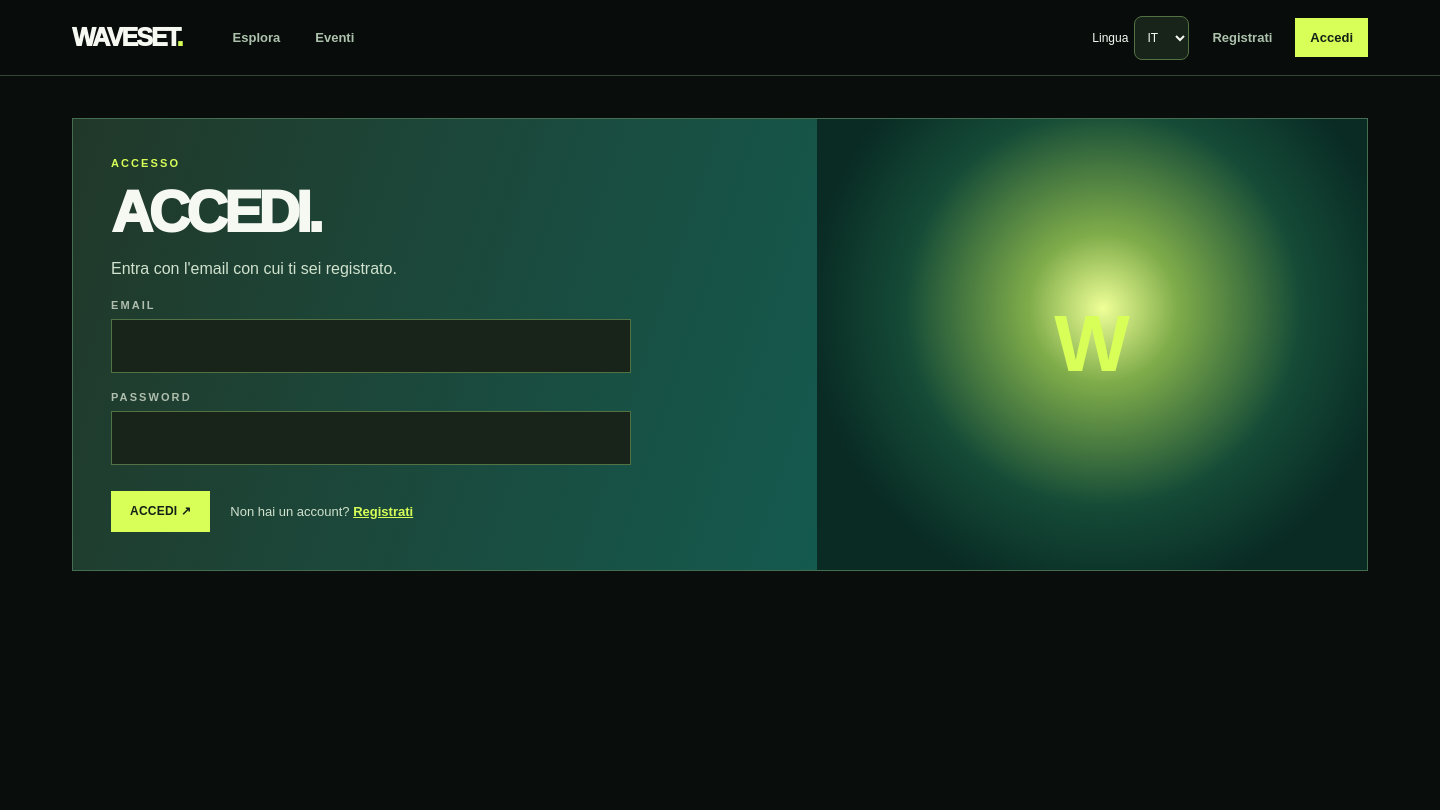
schermata di accesso › campi vuoti: errori per campo e nessuna chiamata di accesso
Expected: the heading "Accedi." is shown, [111, 180, 320, 244]
Step 1. Click the button "Accedi ↗" → (161, 512), box [111, 491, 210, 532]
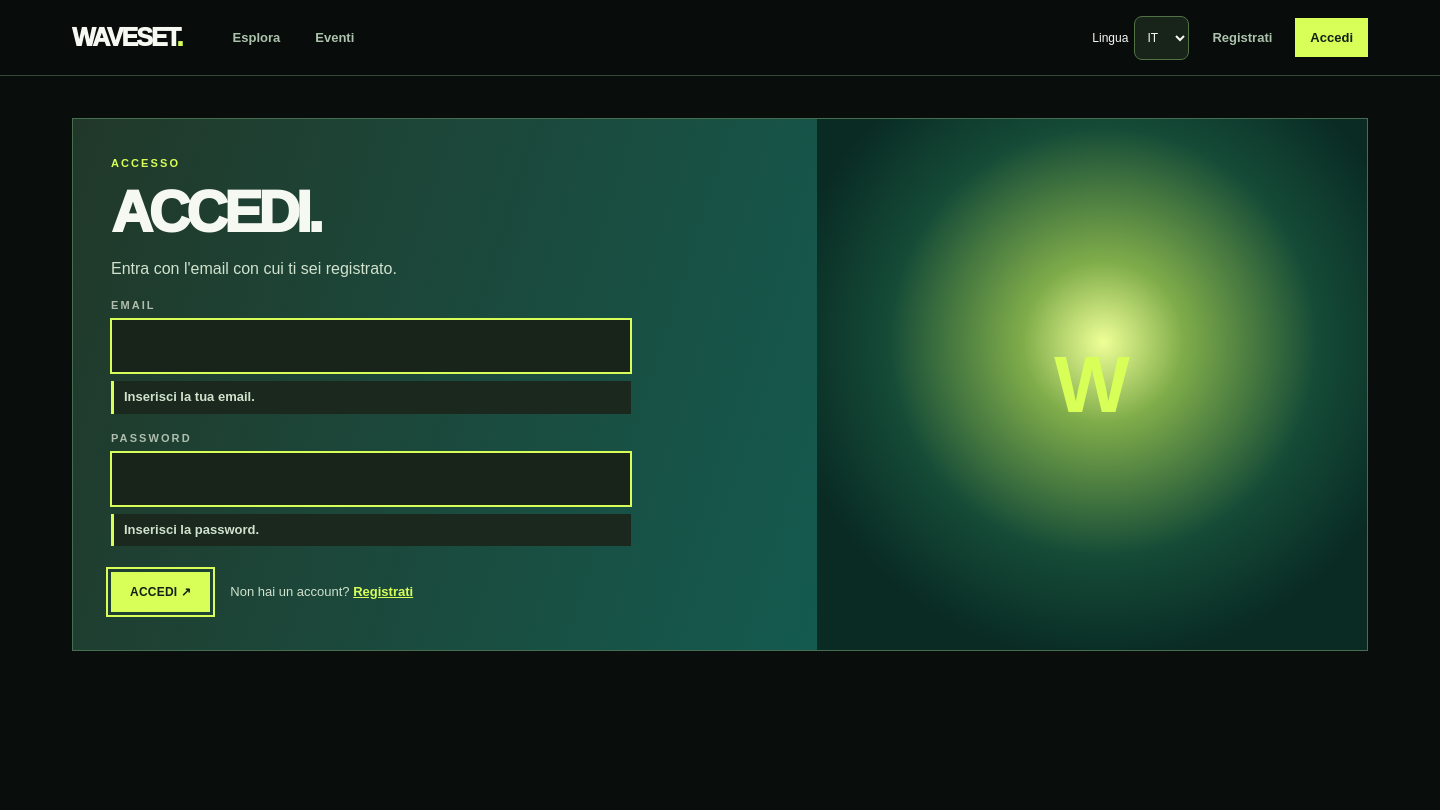
Now the text "Inserisci la tua email." is shown, box [111, 381, 631, 414]
Now the text "Inserisci la password." is shown, box [111, 514, 631, 546]
